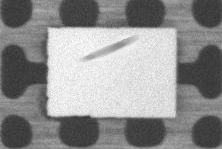DIE_INK: (113, 20, 212, 44)
